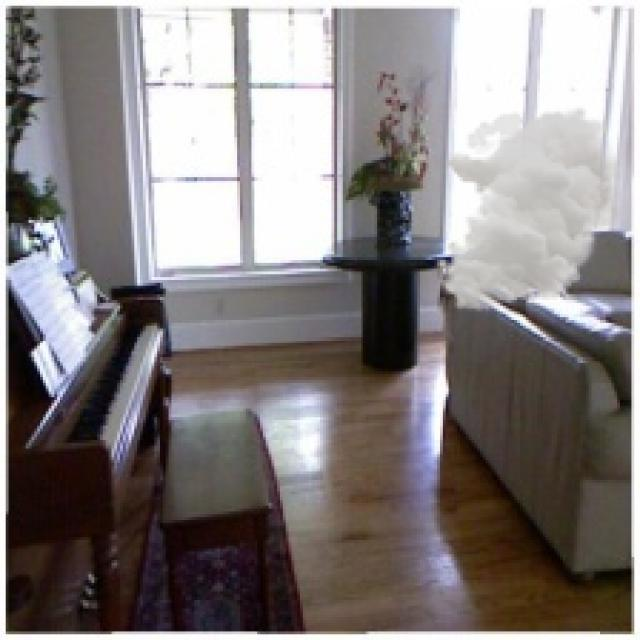Smoke: (434, 106, 634, 312)
